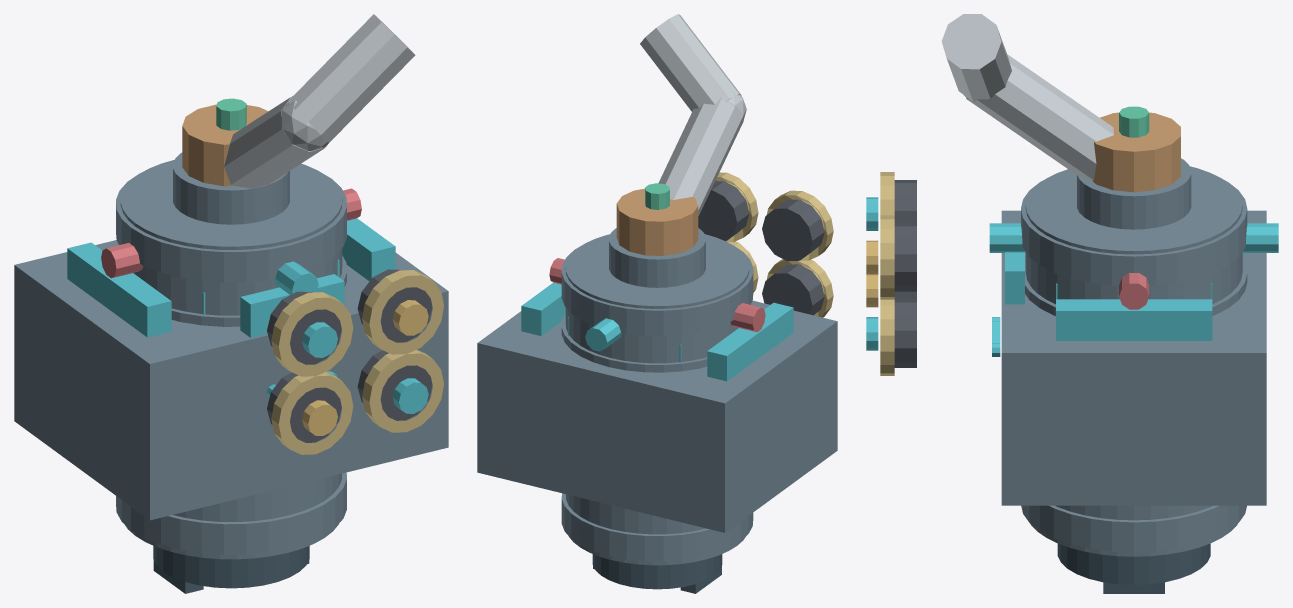
The model's file is 46_L82_TriaxialRFFieldStrengthProbe.glb.
3 renders of one model, left to right at view 1: azimuth 30°, elevation 25°; view 2: azimuth 150°, elevation 25°; view 3: azimuth 270°, elevation 25°, orthographic. The views are drawn at different scales.
Visible parts, largest first — view 1: TriaxialRFFieldStrengthProbe_Node_0029, TriaxialRFFieldStrengthProbe_Node_0000, TriaxialRFFieldStrengthProbe_Node_0008, TriaxialRFFieldStrengthProbe_Node_0002, TriaxialRFFieldStrengthProbe_Node_0024, TriaxialRFFieldStrengthProbe_Node_0030, TriaxialRFFieldStrengthProbe_Node_0011, TriaxialRFFieldStrengthProbe_Node_0023, TriaxialRFFieldStrengthProbe_Node_0012, TriaxialRFFieldStrengthProbe_Node_0013, TriaxialRFFieldStrengthProbe_Node_0045, TriaxialRFFieldStrengthProbe_Node_0042 (+17 smaller); view 2: TriaxialRFFieldStrengthProbe_Node_0029, TriaxialRFFieldStrengthProbe_Node_0000, TriaxialRFFieldStrengthProbe_Node_0008, TriaxialRFFieldStrengthProbe_Node_0023, TriaxialRFFieldStrengthProbe_Node_0002, TriaxialRFFieldStrengthProbe_Node_0024, TriaxialRFFieldStrengthProbe_Node_0013, TriaxialRFFieldStrengthProbe_Node_0011, TriaxialRFFieldStrengthProbe_Node_0030, TriaxialRFFieldStrengthProbe_Node_0041, TriaxialRFFieldStrengthProbe_Node_0012, TriaxialRFFieldStrengthProbe_Node_0035 (+9 smaller); view 3: TriaxialRFFieldStrengthProbe_Node_0029, TriaxialRFFieldStrengthProbe_Node_0000, TriaxialRFFieldStrengthProbe_Node_0008, TriaxialRFFieldStrengthProbe_Node_0023, TriaxialRFFieldStrengthProbe_Node_0002, TriaxialRFFieldStrengthProbe_Node_0034, TriaxialRFFieldStrengthProbe_Node_0013, TriaxialRFFieldStrengthProbe_Node_0011, TriaxialRFFieldStrengthProbe_Node_0024, TriaxialRFFieldStrengthProbe_Node_0012, TriaxialRFFieldStrengthProbe_Node_0028, TriaxialRFFieldStrengthProbe_Node_0044 (+10 smaller).
Boxes of the visible parts, bbox=[...] form: TriaxialRFFieldStrengthProbe_Node_0029: bbox=[14, 240, 448, 520]; TriaxialRFFieldStrengthProbe_Node_0000: bbox=[120, 160, 342, 559]; TriaxialRFFieldStrengthProbe_Node_0008: bbox=[116, 172, 346, 282]; TriaxialRFFieldStrengthProbe_Node_0002: bbox=[116, 472, 346, 554]; TriaxialRFFieldStrengthProbe_Node_0024: bbox=[287, 14, 415, 142]; TriaxialRFFieldStrengthProbe_Node_0030: bbox=[67, 242, 171, 337]; TriaxialRFFieldStrengthProbe_Node_0011: bbox=[173, 152, 289, 224]; TriaxialRFFieldStrengthProbe_Node_0023: bbox=[224, 96, 328, 188]; TriaxialRFFieldStrengthProbe_Node_0012: bbox=[153, 546, 309, 588]; TriaxialRFFieldStrengthProbe_Node_0013: bbox=[182, 104, 268, 186]; TriaxialRFFieldStrengthProbe_Node_0045: bbox=[362, 270, 443, 354]; TriaxialRFFieldStrengthProbe_Node_0042: bbox=[271, 292, 353, 376]; TriaxialRFFieldStrengthProbe_Node_0029: bbox=[477, 300, 837, 532]; TriaxialRFFieldStrengthProbe_Node_0000: bbox=[565, 234, 749, 565]; TriaxialRFFieldStrengthProbe_Node_0008: bbox=[561, 246, 753, 335]; TriaxialRFFieldStrengthProbe_Node_0023: bbox=[658, 99, 743, 216]; TriaxialRFFieldStrengthProbe_Node_0002: bbox=[561, 493, 753, 561]; TriaxialRFFieldStrengthProbe_Node_0024: bbox=[640, 14, 741, 111]; TriaxialRFFieldStrengthProbe_Node_0013: bbox=[616, 188, 698, 255]; TriaxialRFFieldStrengthProbe_Node_0011: bbox=[609, 228, 705, 287]; TriaxialRFFieldStrengthProbe_Node_0030: bbox=[707, 302, 793, 381]; TriaxialRFFieldStrengthProbe_Node_0041: bbox=[762, 199, 824, 261]; TriaxialRFFieldStrengthProbe_Node_0012: bbox=[592, 554, 722, 589]; TriaxialRFFieldStrengthProbe_Node_0035: bbox=[762, 264, 824, 315]; TriaxialRFFieldStrengthProbe_Node_0029: bbox=[1001, 210, 1266, 505]; TriaxialRFFieldStrengthProbe_Node_0000: bbox=[1025, 166, 1242, 556]; TriaxialRFFieldStrengthProbe_Node_0008: bbox=[1021, 180, 1247, 285]; TriaxialRFFieldStrengthProbe_Node_0023: bbox=[966, 54, 1113, 180]; TriaxialRFFieldStrengthProbe_Node_0002: bbox=[1021, 505, 1246, 552]; TriaxialRFFieldStrengthProbe_Node_0034: bbox=[1056, 299, 1212, 340]; TriaxialRFFieldStrengthProbe_Node_0013: bbox=[1092, 112, 1180, 192]; TriaxialRFFieldStrengthProbe_Node_0011: bbox=[1077, 158, 1191, 229]; TriaxialRFFieldStrengthProbe_Node_0024: bbox=[941, 14, 1011, 101]; TriaxialRFFieldStrengthProbe_Node_0012: bbox=[1057, 543, 1210, 584]; TriaxialRFFieldStrengthProbe_Node_0028: bbox=[989, 223, 1278, 252]; TriaxialRFFieldStrengthProbe_Node_0044: bbox=[894, 223, 916, 291].
Bounding box in the file's own units: 0.56 × 1.06 × 0.6847.
